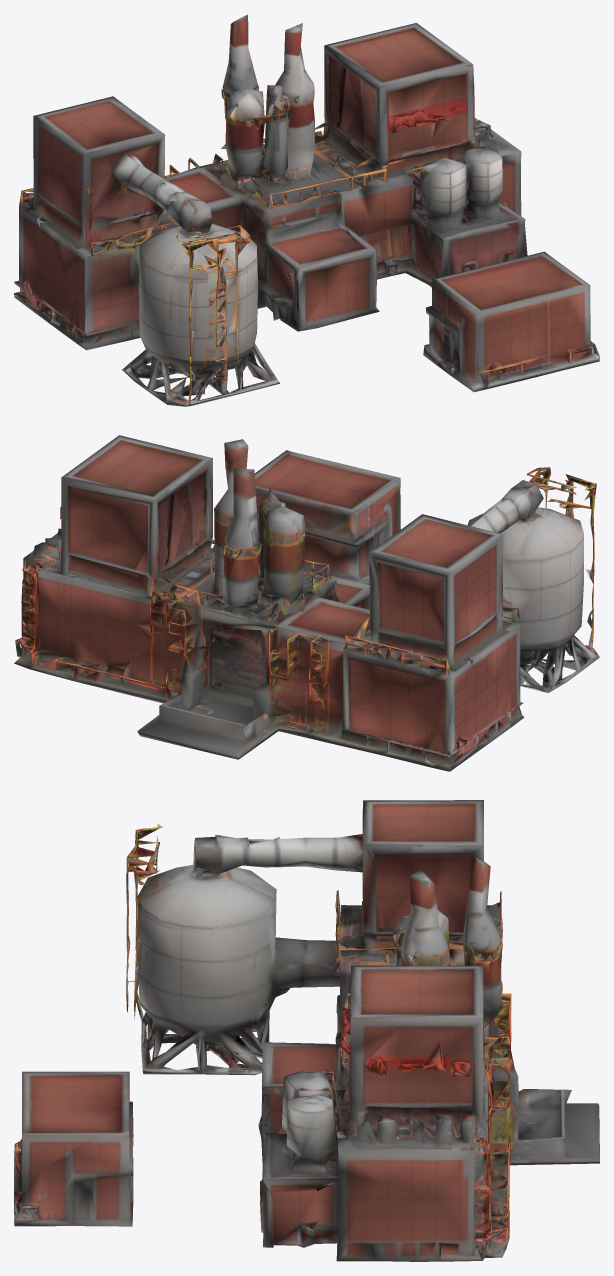
The model's file is Cement_factory_Indust_0605195119_texture.glb.
The picture shows the model from 3 angles, top to bottom: view 1: azimuth 30°, elevation 25°; view 2: azimuth 150°, elevation 25°; view 3: azimuth 270°, elevation 25°; orthographic projection. The views are drawn at different scales.
Bounding box in the file's own units: 1.99 × 1.04 × 1.98.
1 material, 1 textured.
